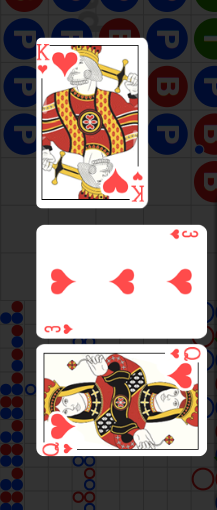3H: (44, 322, 75, 335)
KH: (37, 42, 50, 76)
